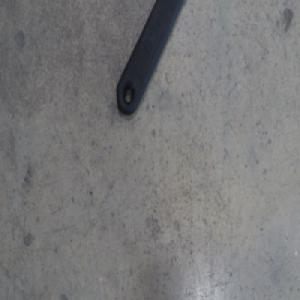AdjustableWrench: (116, 0, 178, 114)
